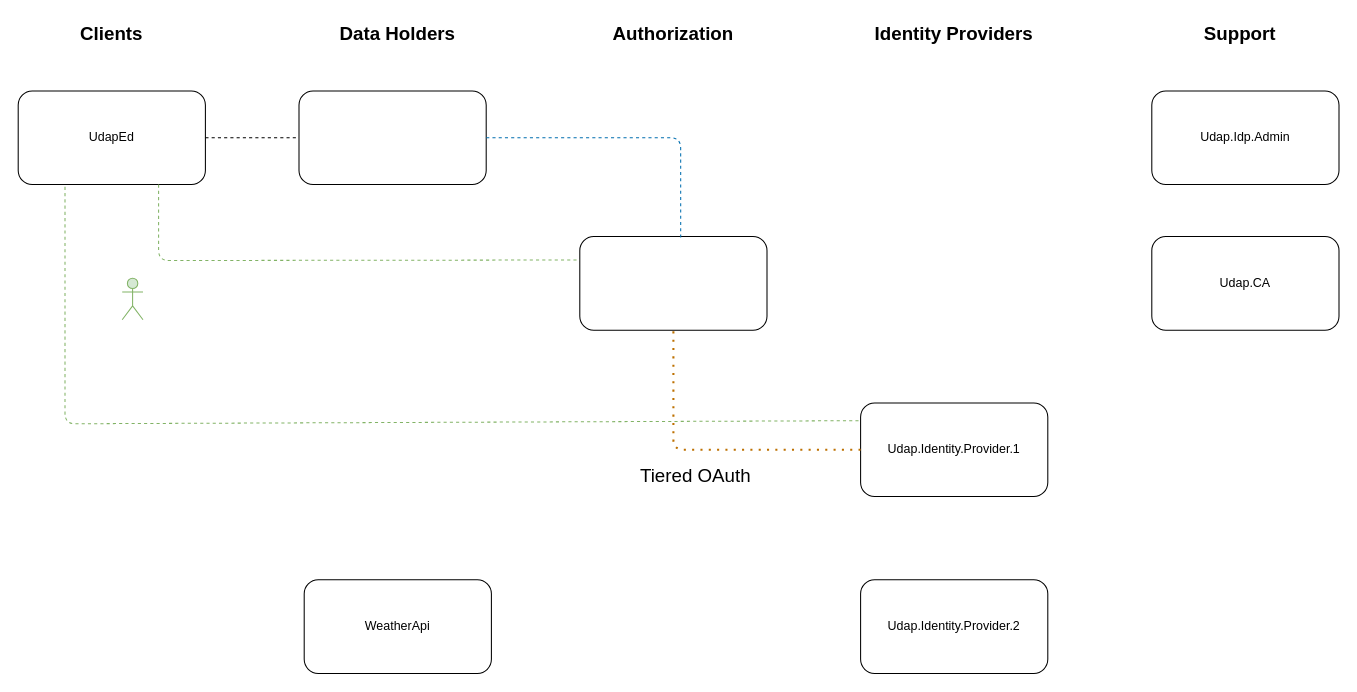
This 1357x692 diagram has some shape labels left out. Here are the shapes that lost their labels. From the top down, the centre of each, then its label:
(x=392, y=137): FhirLabsApi
(x=132, y=298): Actor redirects
(x=673, y=283): Udap.Auth.Server
